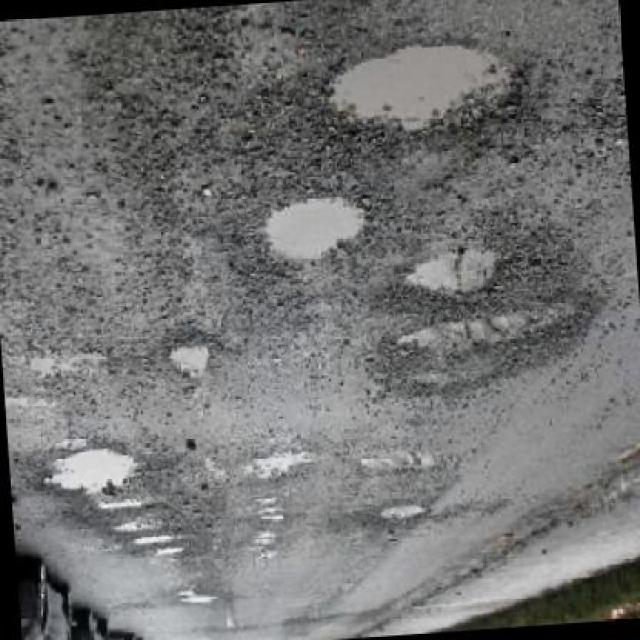pothole: (320, 38, 532, 156), (376, 303, 593, 397), (258, 190, 380, 279), (397, 241, 525, 314), (39, 445, 144, 504), (165, 342, 218, 382), (378, 502, 433, 526), (177, 588, 220, 612), (131, 535, 178, 554), (114, 524, 161, 538)
